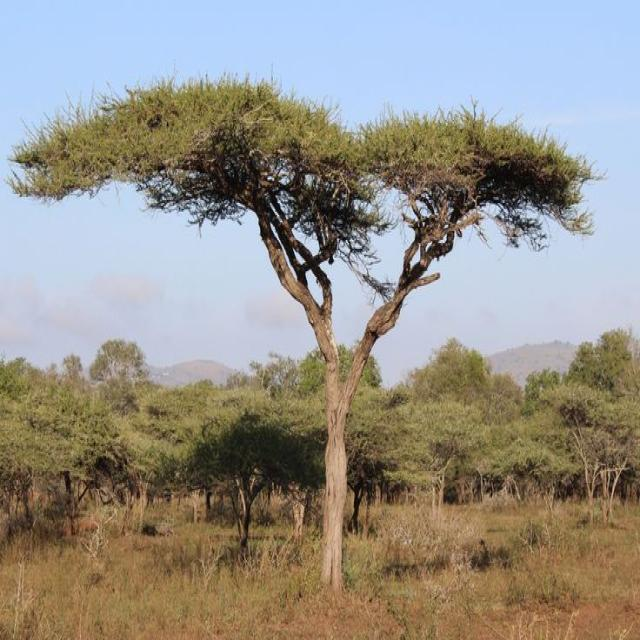Acacia: (113, 105, 559, 584)
